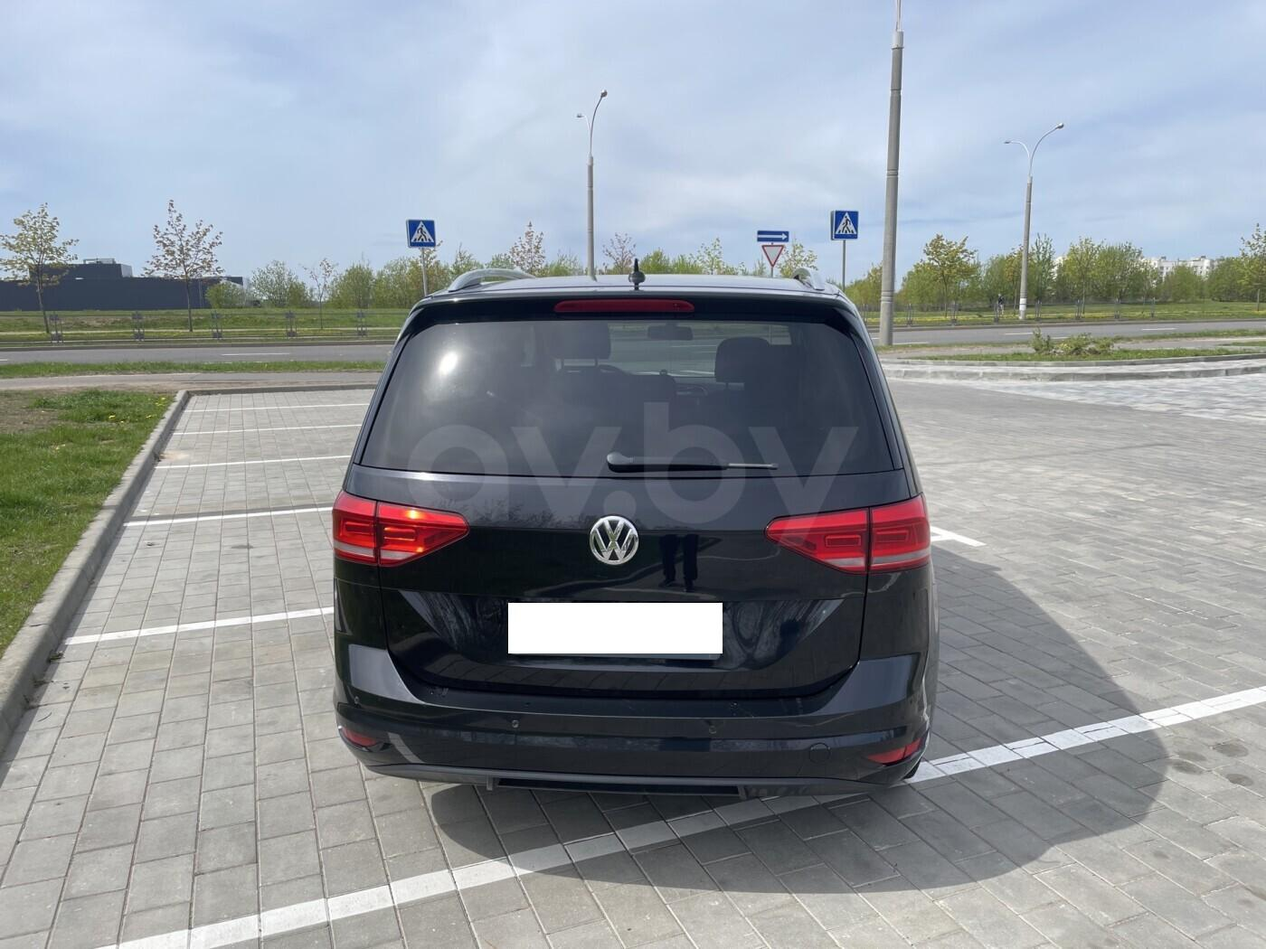Touran_2015: (315, 262, 939, 801)
